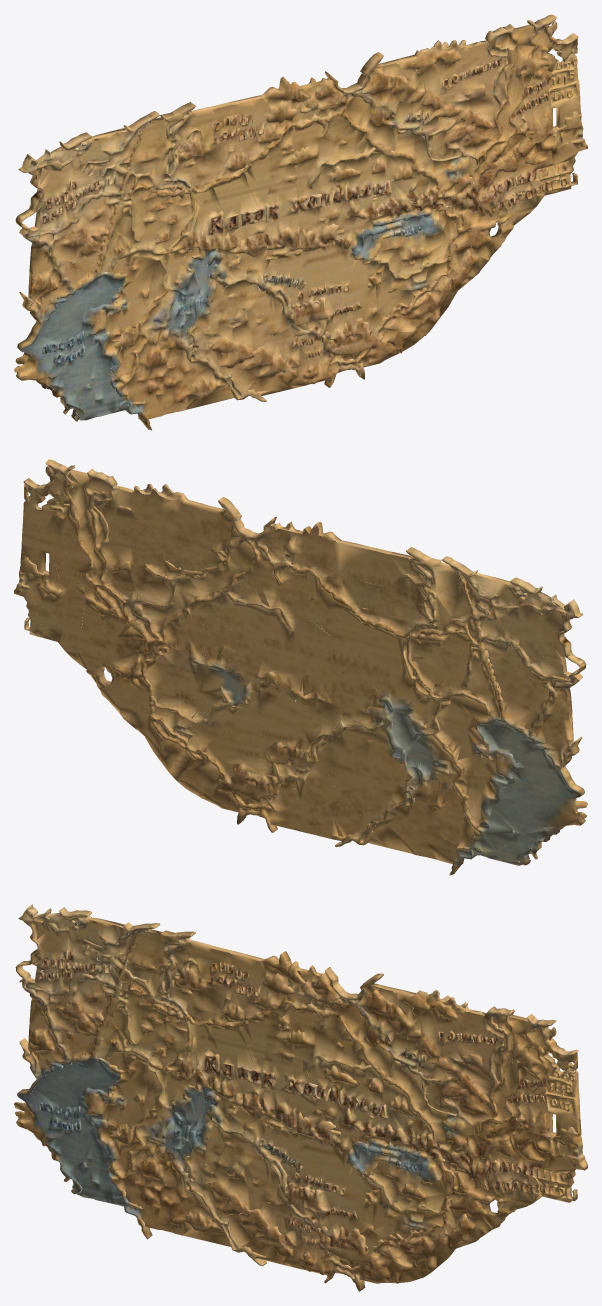
Rendered from aktaban-map.glb.
3 renders of one model, top to bottom at view 1: azimuth 30°, elevation 25°; view 2: azimuth 150°, elevation 25°; view 3: azimuth 330°, elevation 25°, orthographic.
Parts seen in each view (by area): view 1: tripo_node_73a827f7-d905-4212-8b10-9bc046d2fb76; view 2: tripo_node_73a827f7-d905-4212-8b10-9bc046d2fb76; view 3: tripo_node_73a827f7-d905-4212-8b10-9bc046d2fb76.
Boxes of the visible parts, x1,y1,x2,y2 form: tripo_node_73a827f7-d905-4212-8b10-9bc046d2fb76: (14,14,587,430); tripo_node_73a827f7-d905-4212-8b10-9bc046d2fb76: (14,459,587,875); tripo_node_73a827f7-d905-4212-8b10-9bc046d2fb76: (14,904,587,1291).
Size of the model in its own units: 0.9812 by 0.5245 by 0.0208.
Materials: 1 (1 with a texture image).
